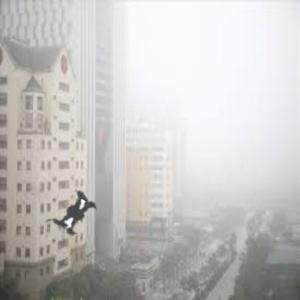drone: (24, 158, 134, 268)
